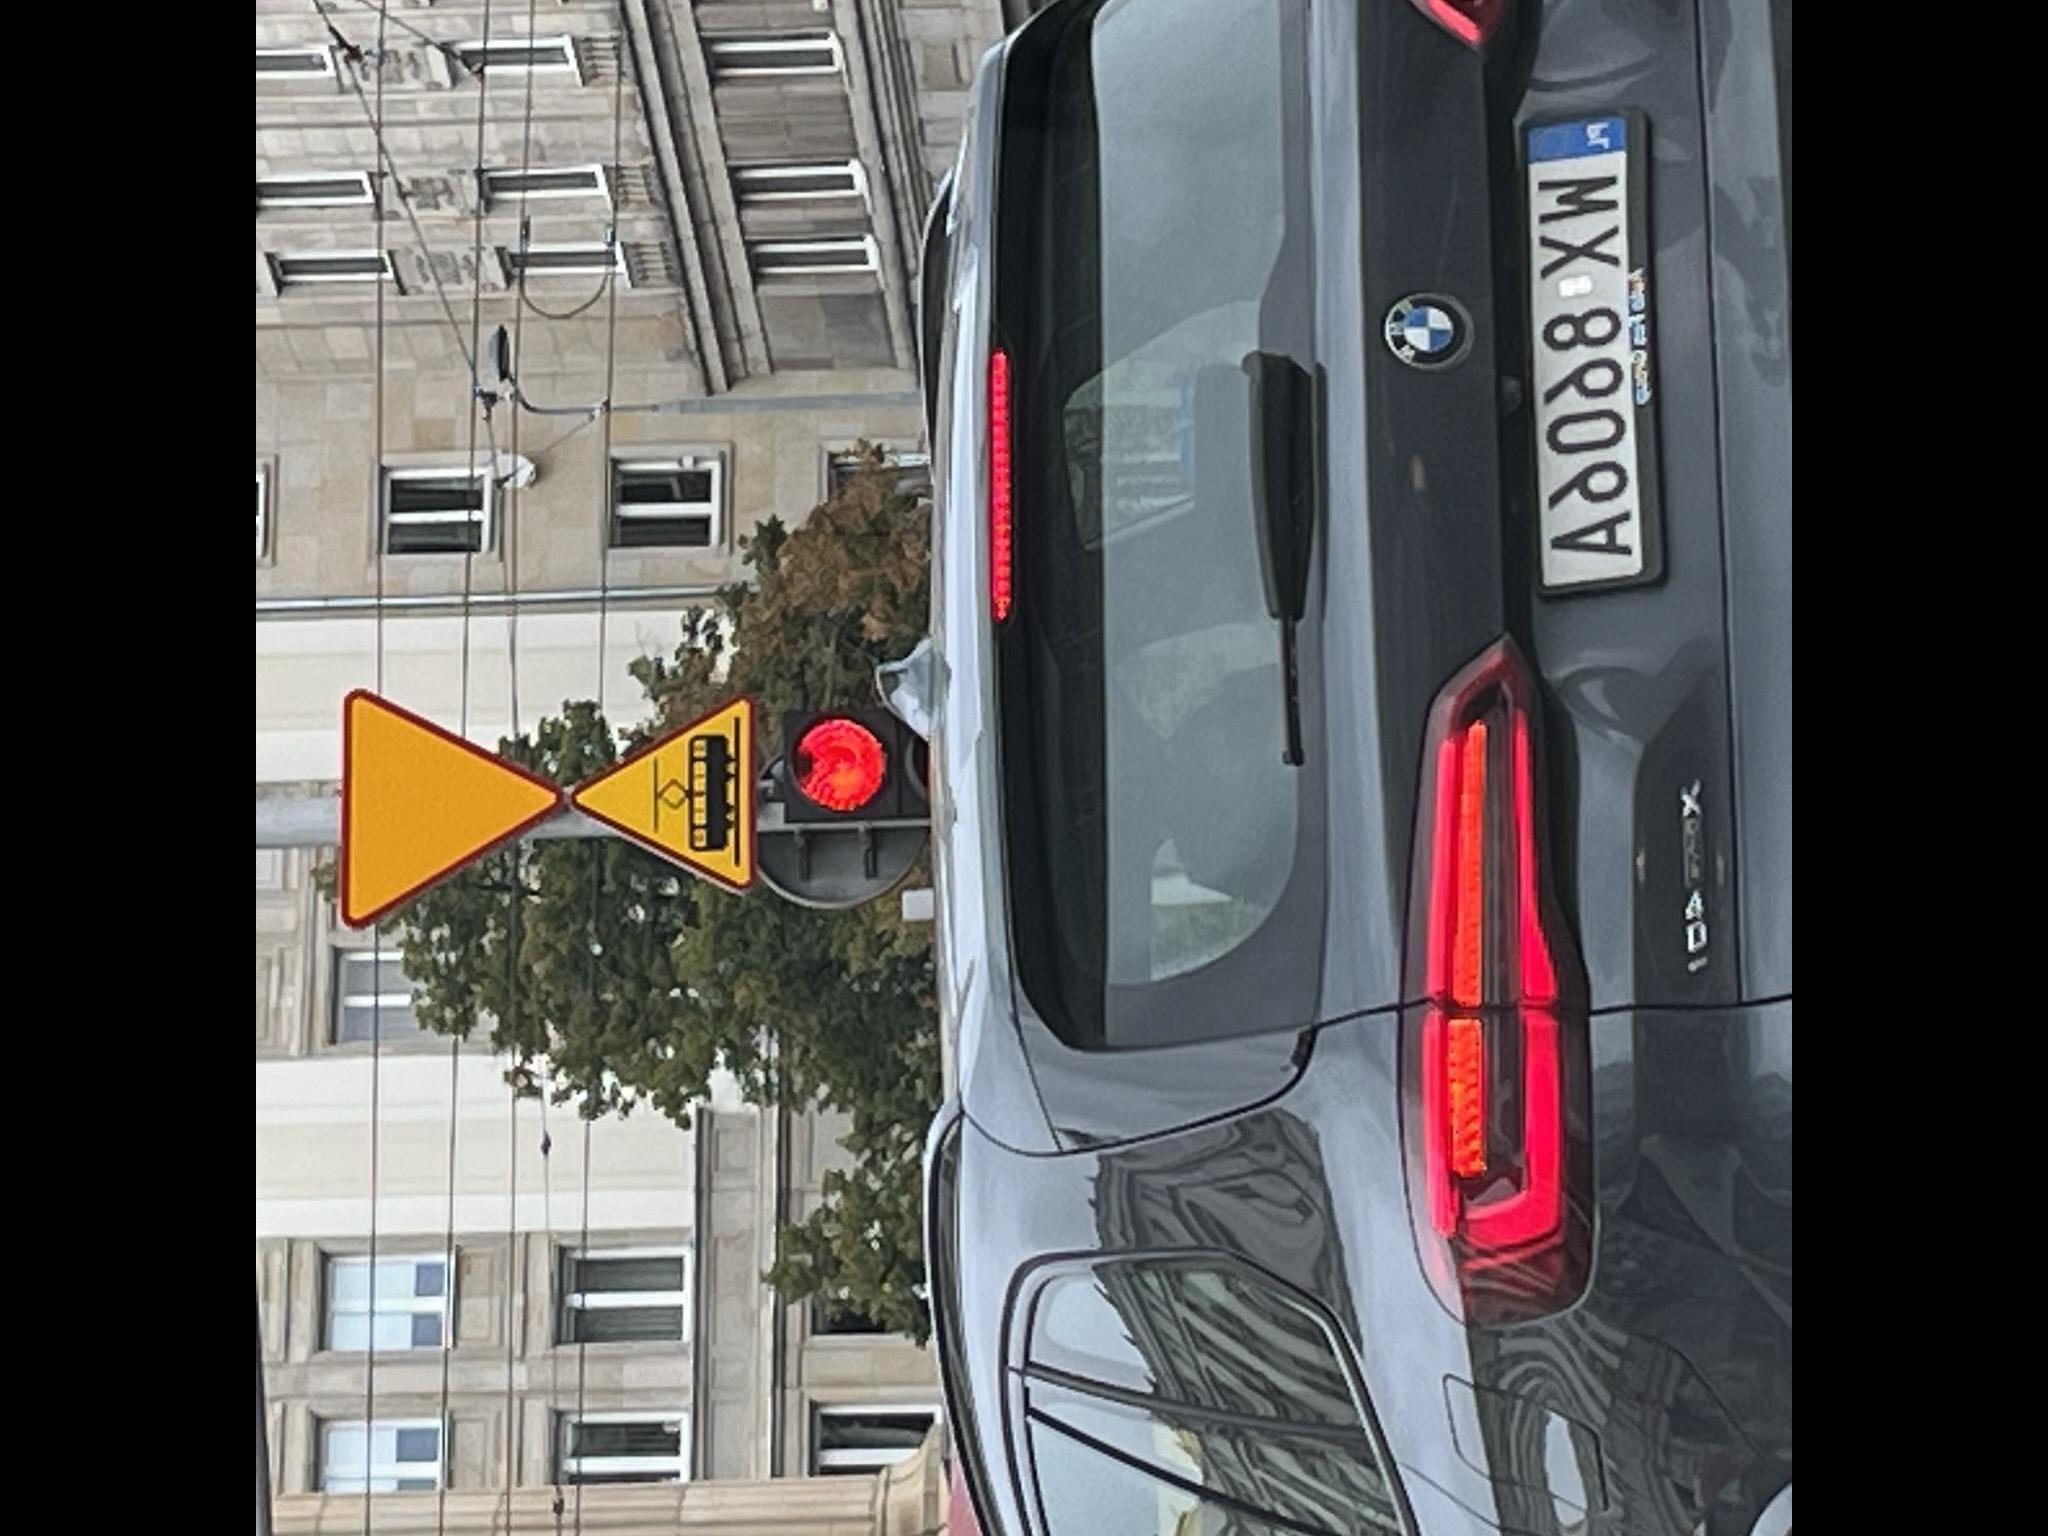warning: (339, 687, 566, 928), (568, 694, 758, 902)
